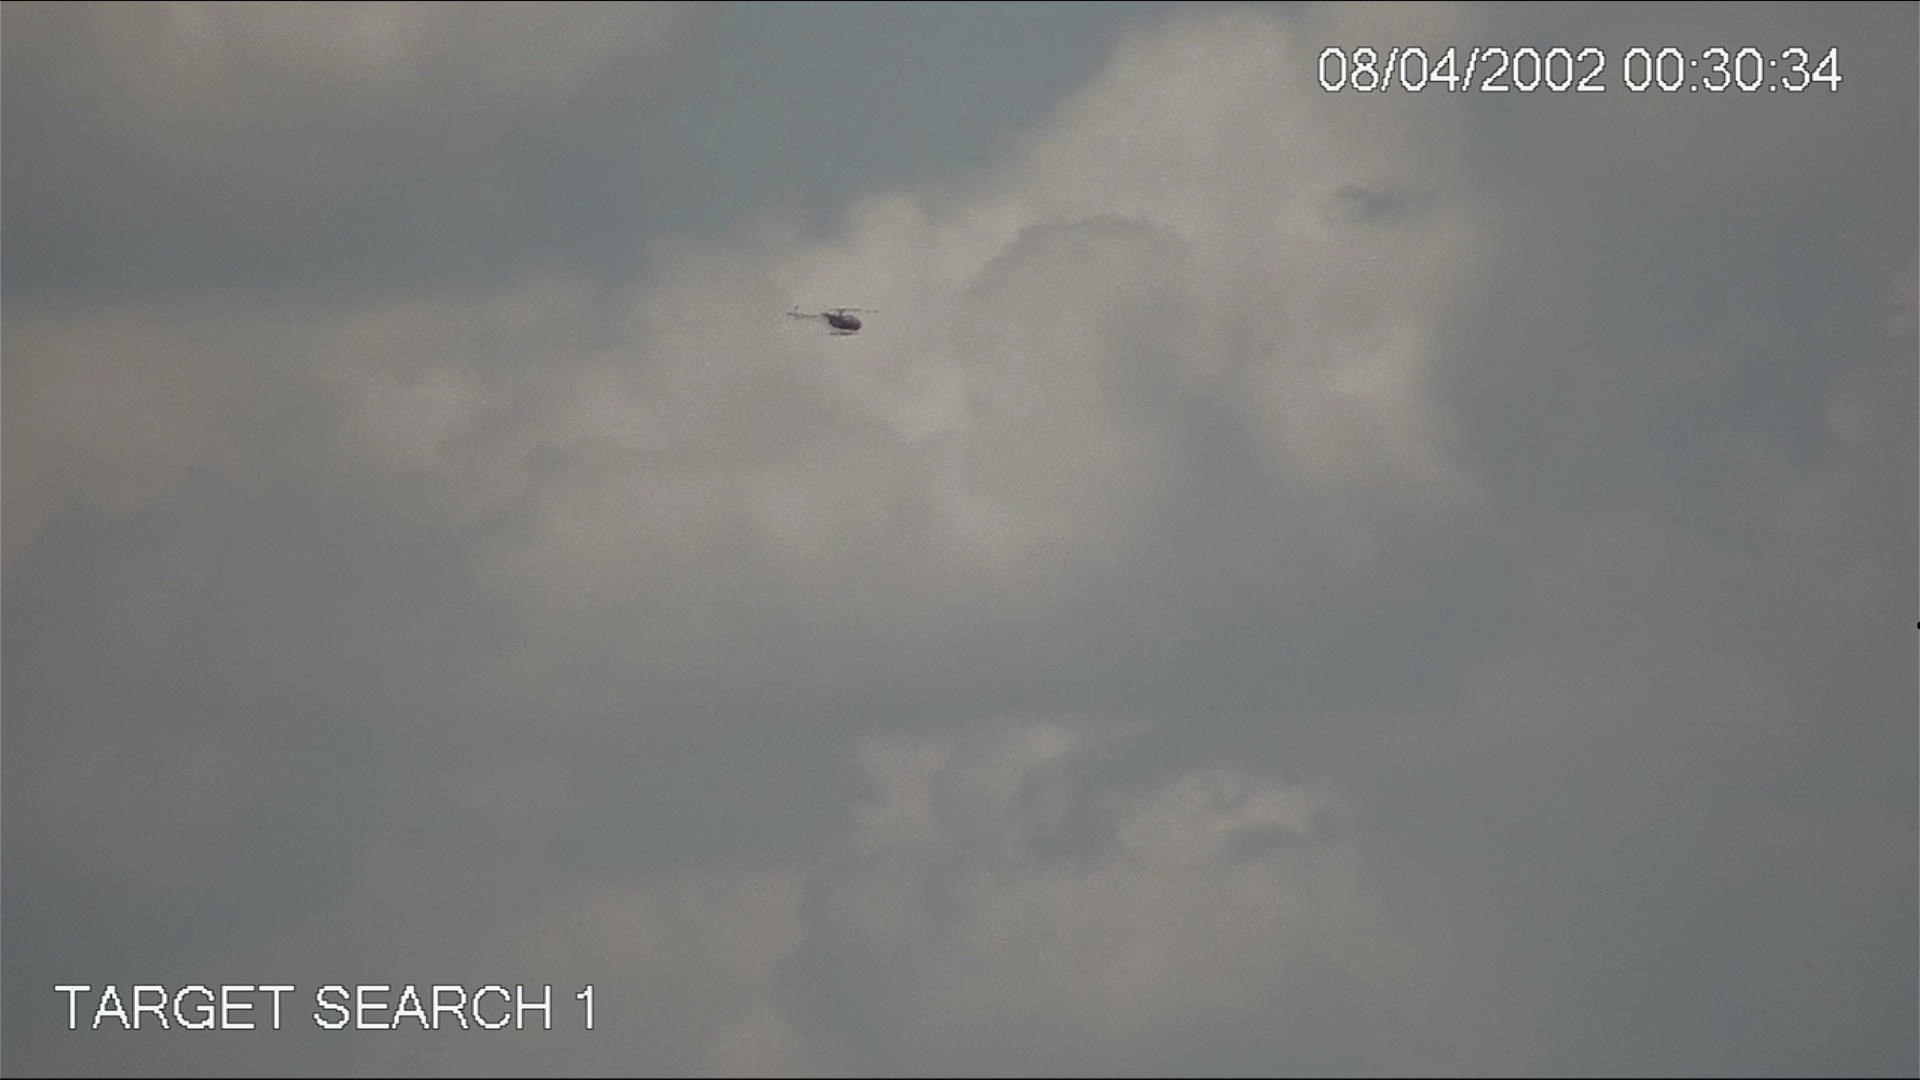SU_30: (789, 306, 880, 334)
